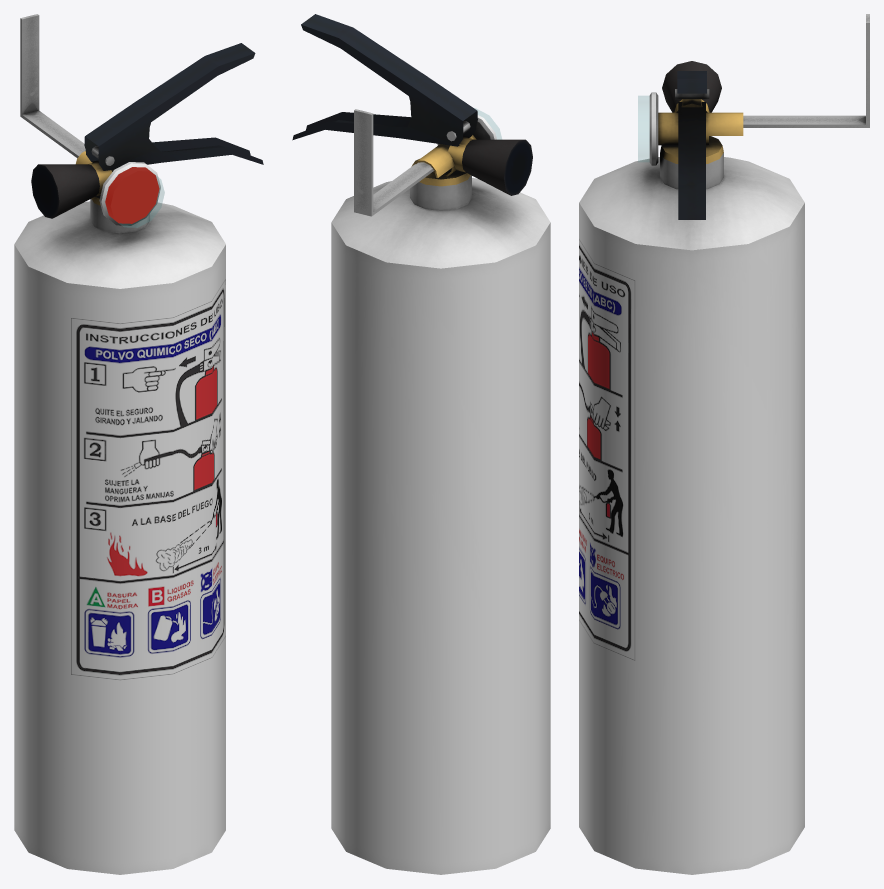
The model's file is Extintor Tipo C.FBX.
3 views of the same model, side by side, from view 1: azimuth 30°, elevation 25°; view 2: azimuth 150°, elevation 25°; view 3: azimuth 270°, elevation 25° (orthographic). The views are drawn at different scales.
Visible parts, largest first — view 1: Cilindro, Pinza_de_masa002, Soporte_Pared, salida, Carga, Pinza_de_masa001, Centro_002; view 2: Cilindro, Pinza_de_masa002, Soporte_Pared, salida, Pinza_de_masa001, Centro_001, Base_Cilindro; view 3: Cilindro, Pinza_de_masa001, Soporte_Pared, Centro_001, salida, Vidrio, Centro_002, Pinza_de_masa002, Base_Cilindro.
Boxes of the visible parts, <box> form: Cilindro: <box>14,199,225,874</box>; Pinza_de_masa002: <box>84,43,255,169</box>; Soporte_Pared: <box>20,14,85,158</box>; salida: <box>31,164,99,218</box>; Carga: <box>105,167,159,223</box>; Pinza_de_masa001: <box>85,137,263,170</box>; Centro_002: <box>99,162,160,225</box>; Cilindro: <box>331,175,550,874</box>; Pinza_de_masa002: <box>301,14,477,144</box>; Soporte_Pared: <box>354,109,433,216</box>; salida: <box>462,139,532,195</box>; Pinza_de_masa001: <box>292,112,476,146</box>; Centro_001: <box>412,135,476,177</box>; Base_Cilindro: <box>411,159,470,186</box>; Cilindro: <box>579,152,804,874</box>; Pinza_de_masa001: <box>678,102,705,219</box>; Soporte_Pared: <box>743,14,869,127</box>; Centro_001: <box>658,112,743,145</box>; salida: <box>662,61,721,112</box>; Vidrio: <box>638,96,649,161</box>; Centro_002: <box>649,92,658,165</box>; Pinza_de_masa002: <box>677,71,706,93</box>; Base_Cilindro: <box>660,136,723,163</box>.
Size of the model in its own units: 153 by 482 by 158.
Materials: 2 (1 with a texture image).
